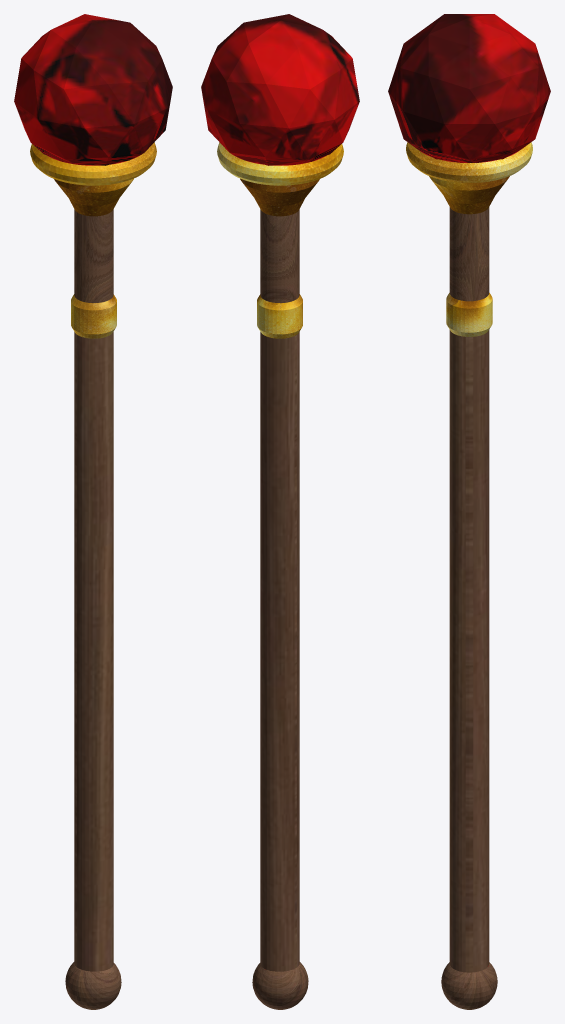
File: truong.fbx
The picture shows the model from 3 angles, left to right: view 1: azimuth 30°, elevation 25°; view 2: azimuth 150°, elevation 25°; view 3: azimuth 270°, elevation 25°; orthographic projection.
Parts seen in each view (by area): view 1: truong; view 2: truong; view 3: truong.
Part boxes in pixels (x1,y1,x2,y2): truong: (14, 14, 172, 1009); truong: (201, 14, 359, 1009); truong: (388, 14, 550, 1009).
Bounding box in the file's own units: 54.8 × 386 × 57.63.
